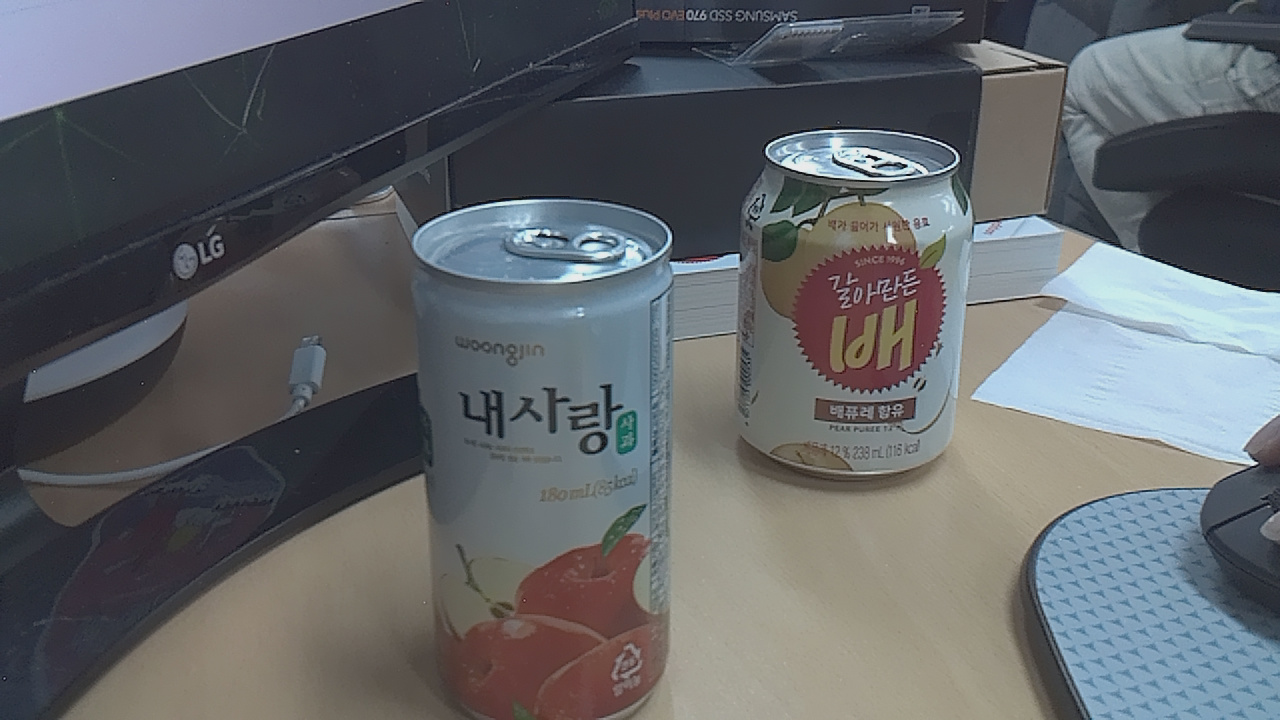IdH (pear juice): (726, 130, 973, 500)
mylove apple: (413, 196, 688, 720)
